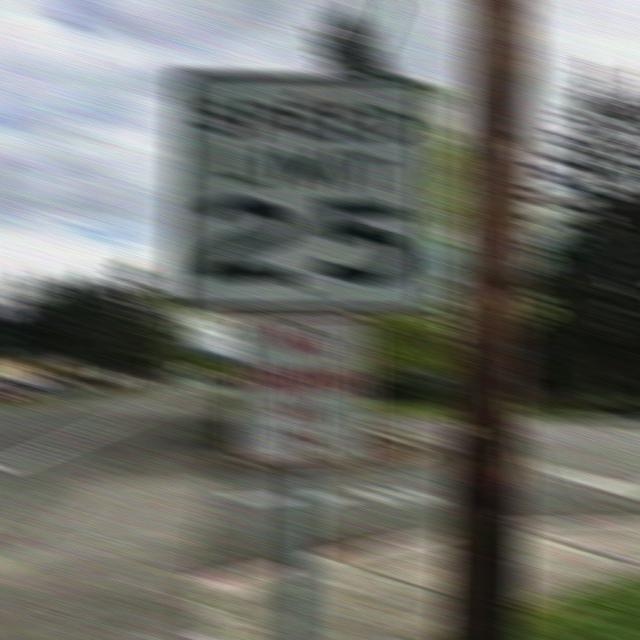speedLimit25: (167, 69, 427, 312)
